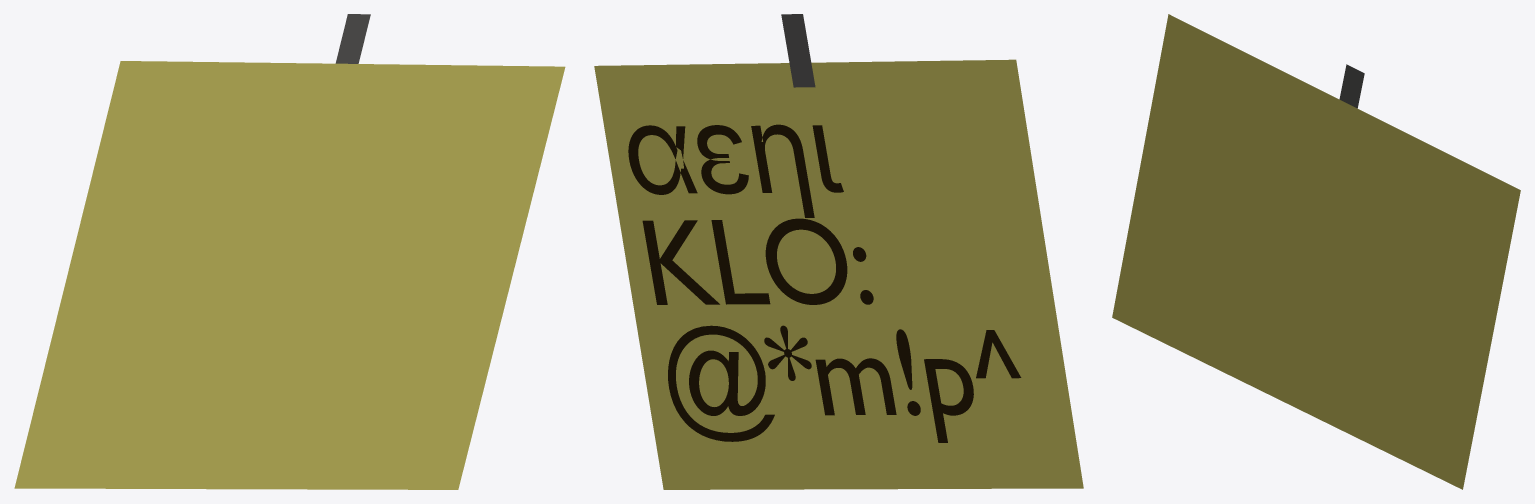
Rendered from Note.glb.
The picture shows the model from 3 angles, left to right: view 1: azimuth 30°, elevation 25°; view 2: azimuth 150°, elevation 25°; view 3: azimuth 330°, elevation 25°; orthographic projection. The views are drawn at different scales.
Visible parts, largest first — view 1: Paper, Tape; view 2: Paper, Message, Tape; view 3: Paper, Tape.
Boxes of the visible parts, box(x1,y1,x2,y2) form: Paper: box(14, 61, 565, 489); Tape: box(335, 14, 370, 63); Paper: box(594, 59, 1083, 489); Message: box(628, 124, 1021, 442); Tape: box(781, 14, 815, 87); Paper: box(1112, 14, 1520, 489); Tape: box(1339, 64, 1364, 108).
Size of the model in its own units: 0.7324 by 0.6924 by 0.0438.
